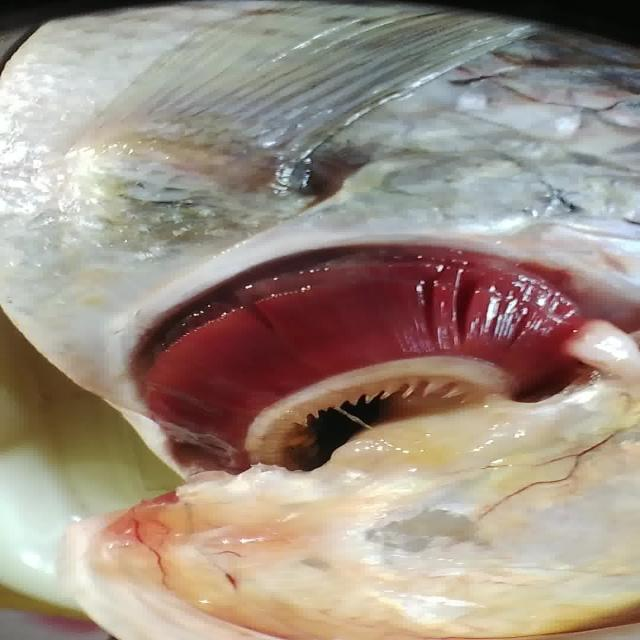Fresh: (110, 215, 604, 524)
